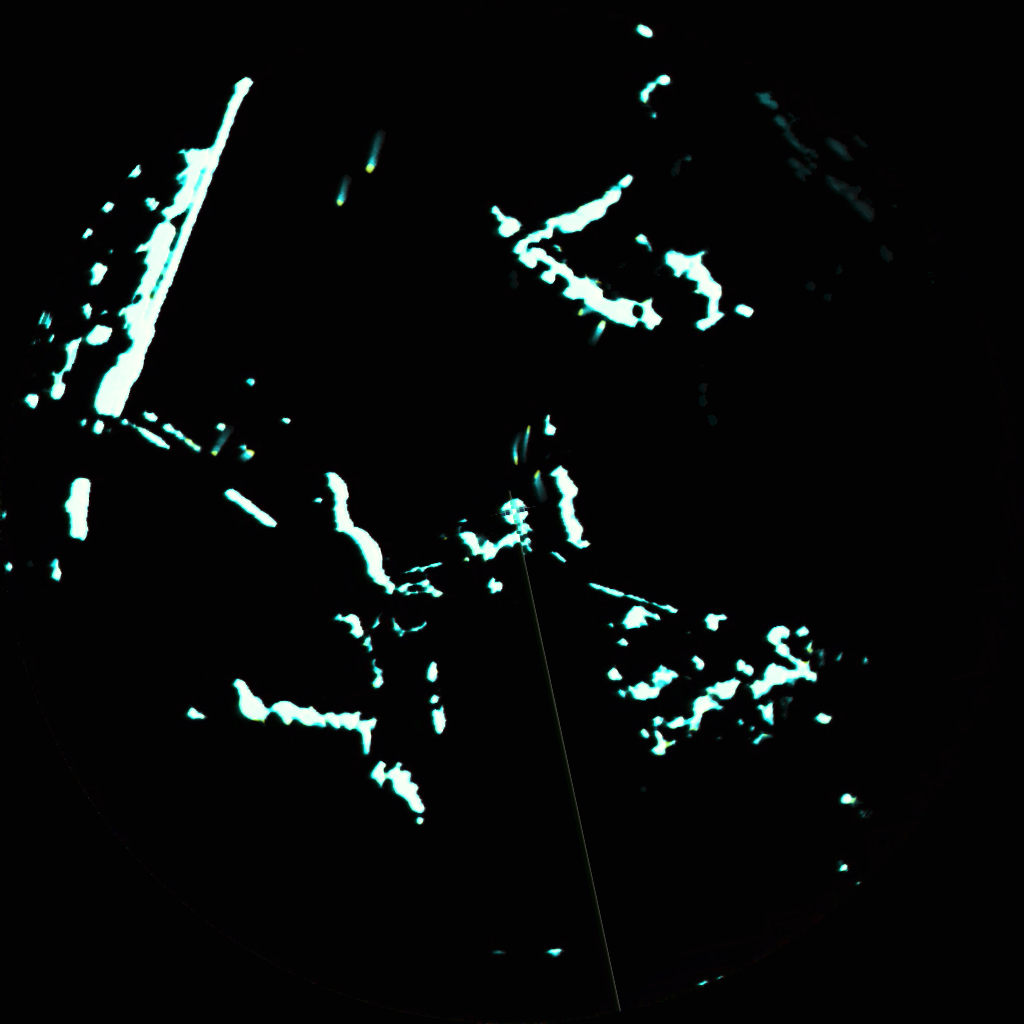B: (524, 423, 536, 446), (367, 150, 380, 171), (588, 322, 606, 336), (211, 435, 224, 454), (511, 439, 520, 464), (243, 450, 257, 462), (534, 468, 542, 489), (338, 183, 346, 200), (571, 309, 585, 316)
